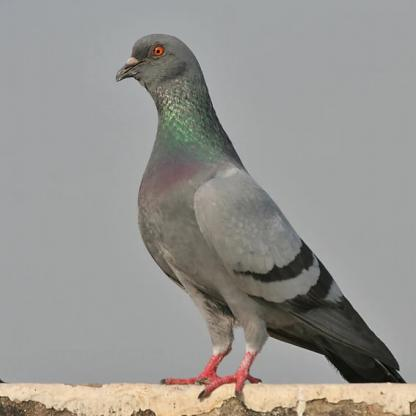Rock Pigeon: (116, 36, 408, 384)
